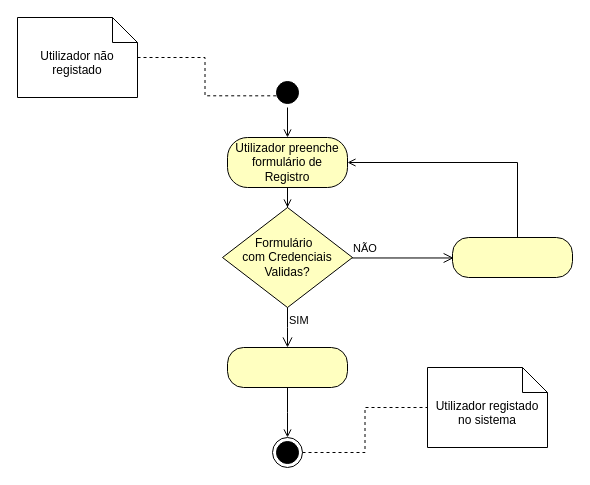
Some shapes in this 590 by 485 pixel diagram are drawn without their labels. The shapes that lost their labels are listed below. From the top down, each one's centre as x and y in pixels, then its label:
At point (512, 257): "Credenciais Invalidas".
At point (287, 367): "Utilizador registado com Sucesso".
